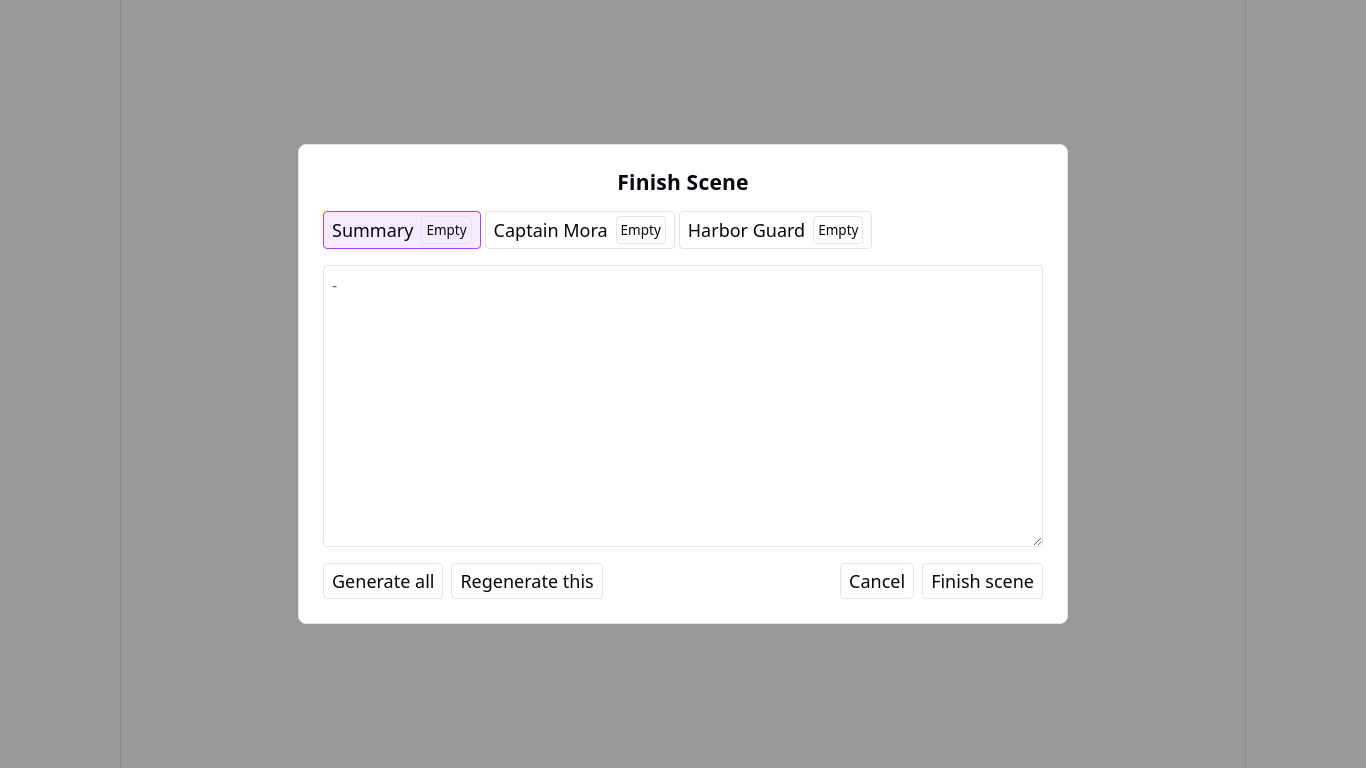
CharacterFinishModal › shows a single editor and keeps text across tab switches
In the text box: (683, 406) [323, 265, 1043, 547], type "hello"
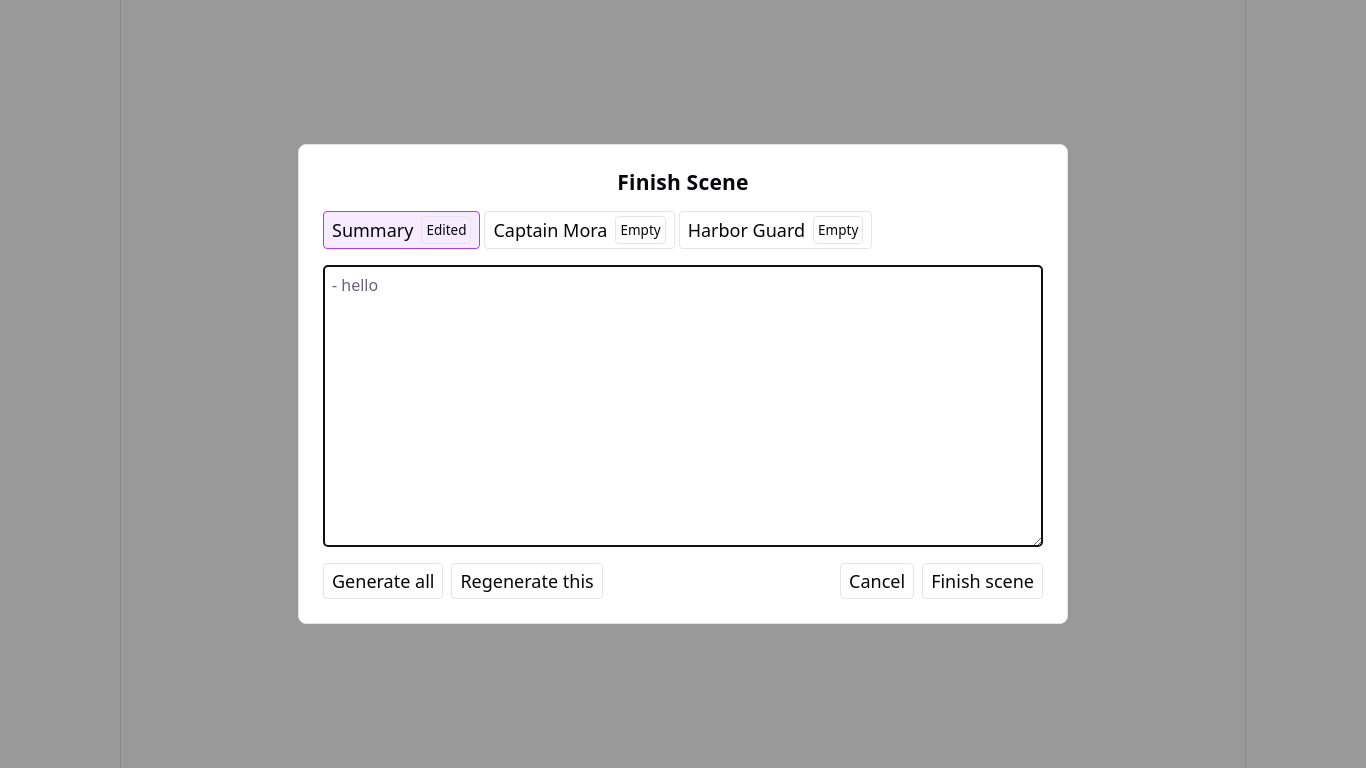
Click the tab "Captain Mora Empty": (580, 230) [484, 211, 675, 249]
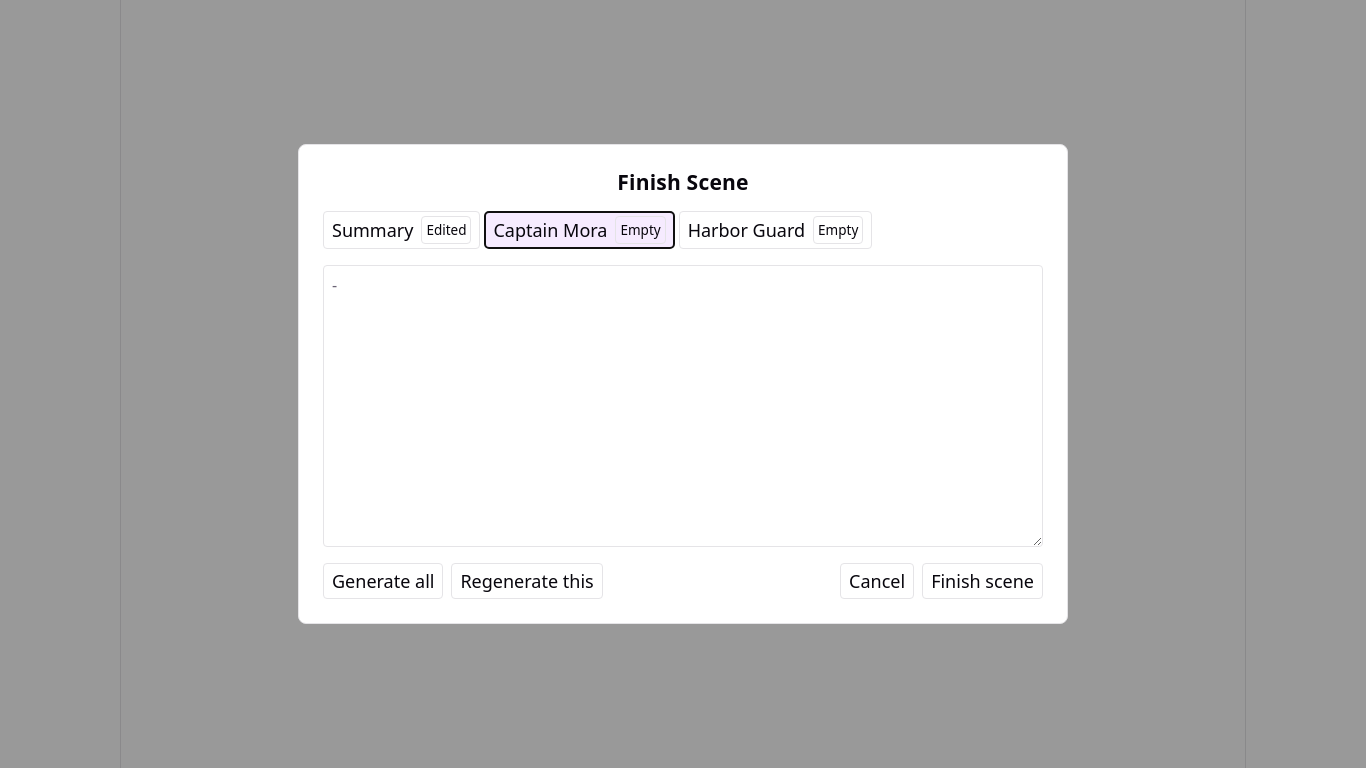
Expected: the number of text boxes is 1, [323, 265, 1043, 547]
Click the tab "Summary Edited": (402, 230) [323, 211, 480, 249]
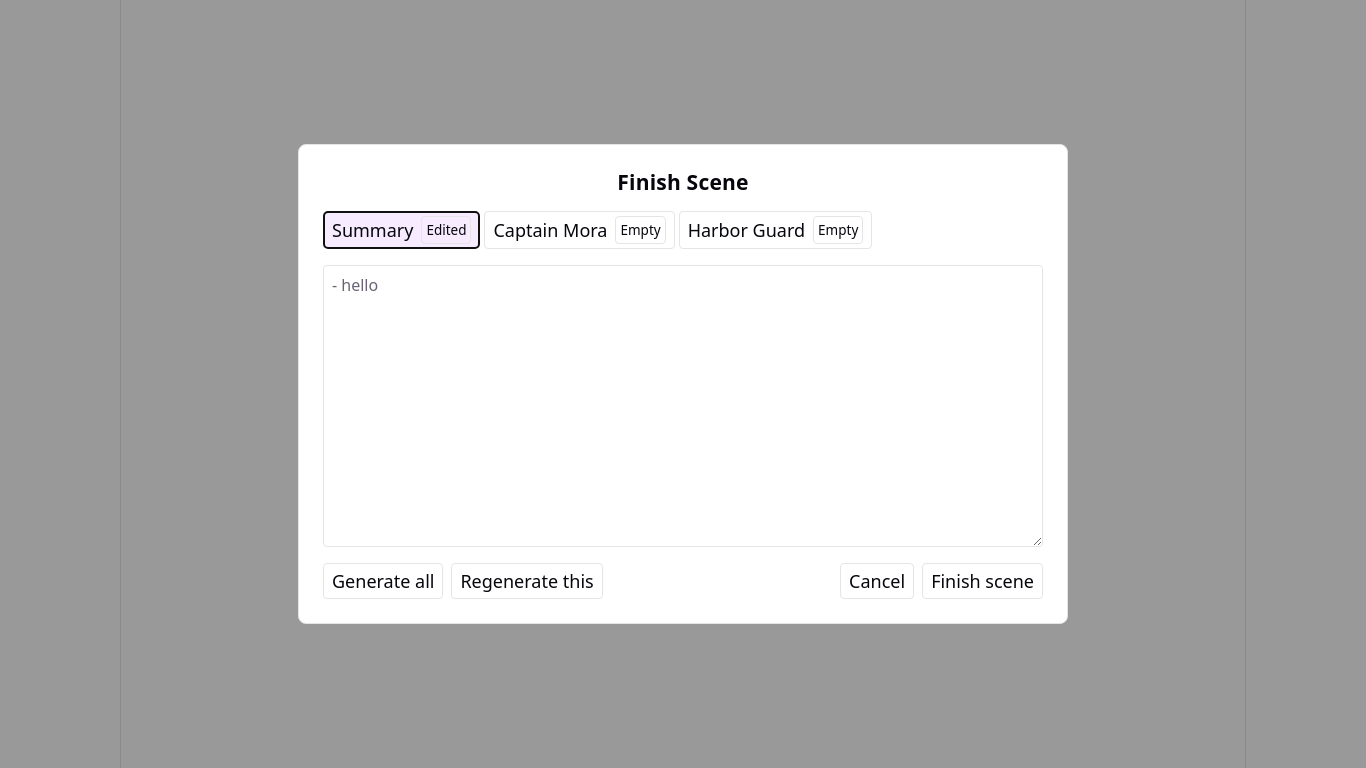
Result: the tab "Summary Edited" is shown at [323, 211, 480, 249]
Result: the text box holds "- hello" at [323, 265, 1043, 547]
